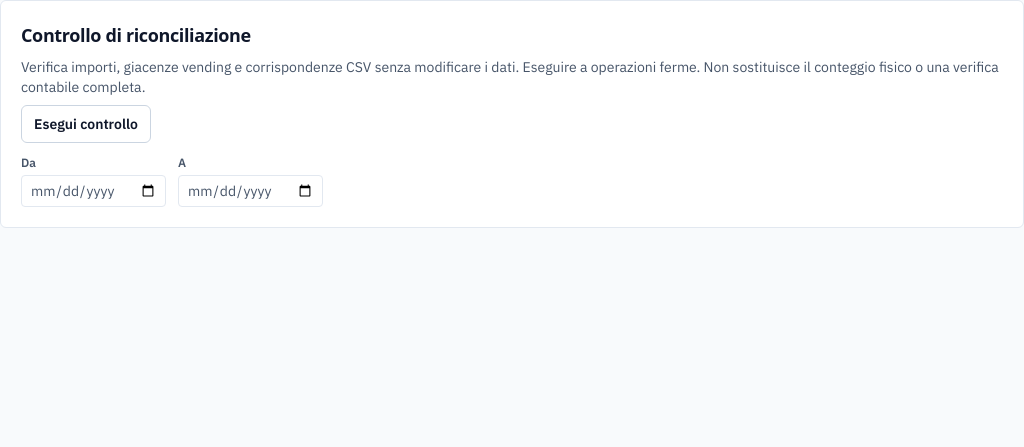
Test case: il filtro date segnala che il confronto globale batch non è stato eseguito
Step 1. Click the button "Esegui controllo" → (86, 124), box [21,105,151,143]
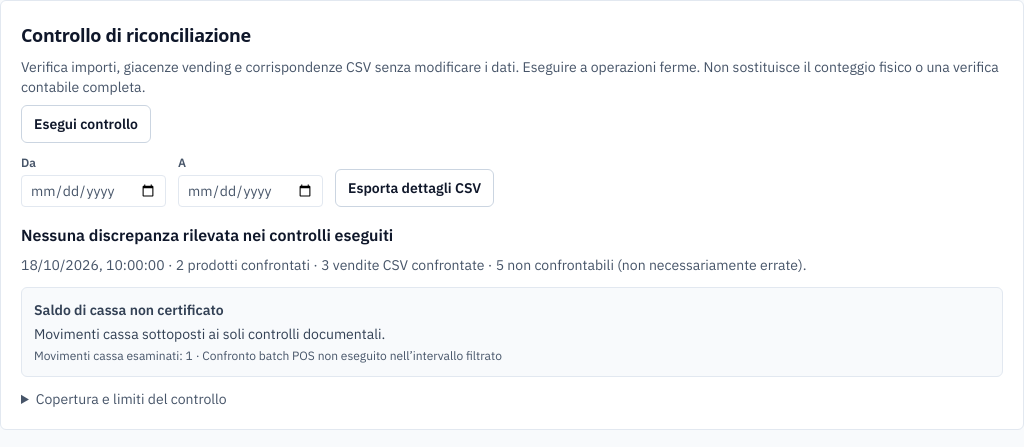
Now the element with test id "financial-coverage" shows "Confronto batch POS non eseguito nell’intervallo filtrato", box [193,348,502,363]
